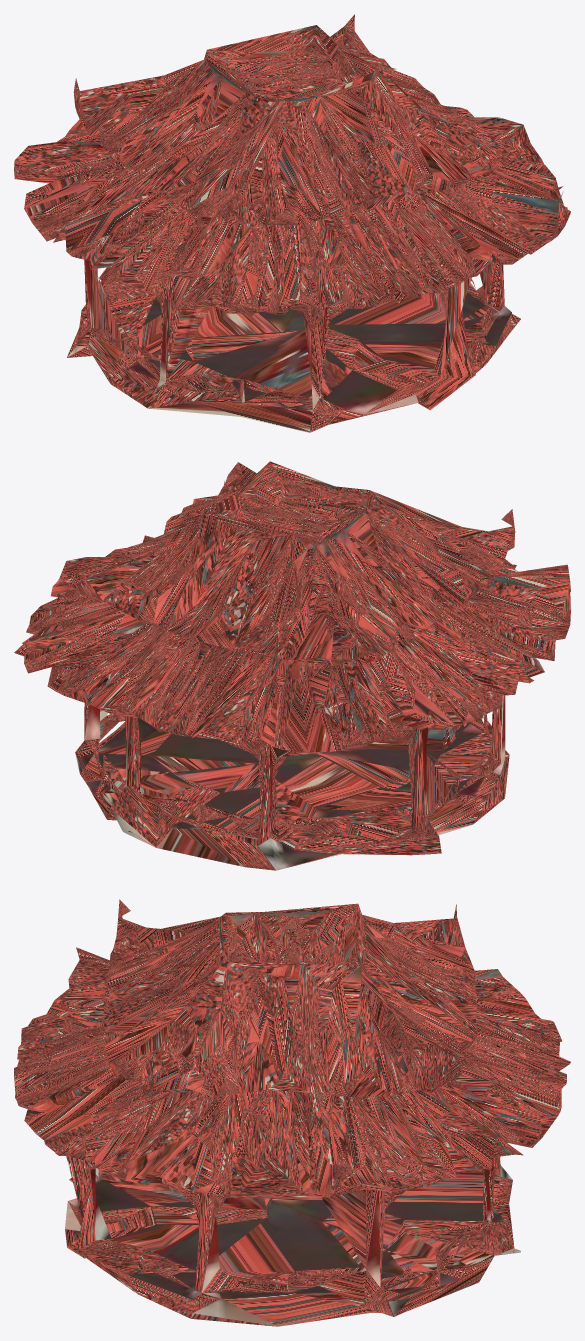
The model's file is lib_garden_pav.far.glb.
3 views of the same model, one above another, from view 1: azimuth 30°, elevation 25°; view 2: azimuth 150°, elevation 25°; view 3: azimuth 270°, elevation 25° (orthographic). The views are drawn at different scales.
Visible parts, largest first — view 1: output_unwrapped; view 2: output_unwrapped; view 3: output_unwrapped.
Part boxes in pixels (<box>): output_unwrapped: <box>14,14,570,432</box>; output_unwrapped: <box>14,461,570,870</box>; output_unwrapped: <box>14,899,570,1326</box>.
Bounding box in the file's own units: 1.97 × 1.15 × 1.94.
1 material, 1 textured.
